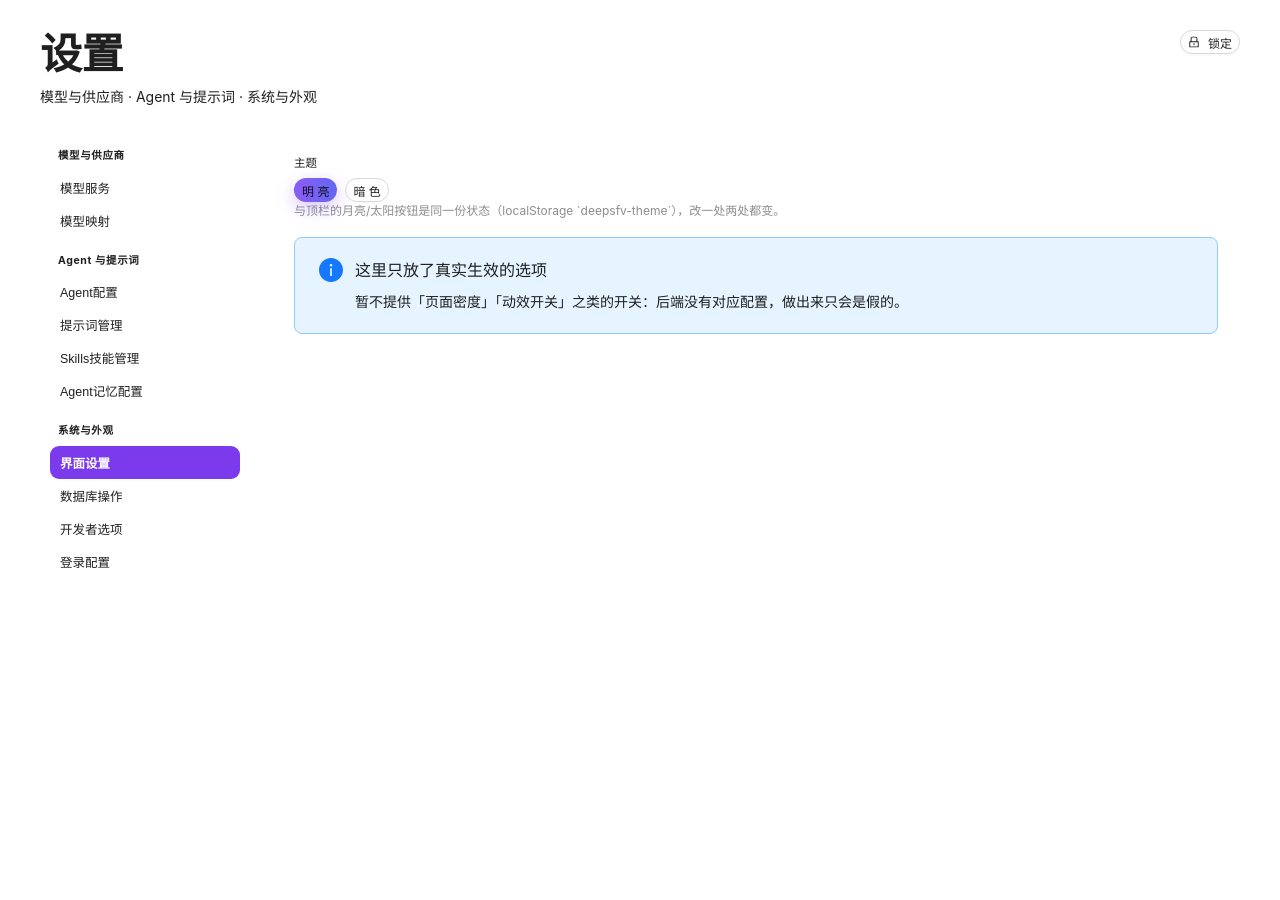
Scenario: SettingsPage（设置中心） › 登录配置能改账号名（密码留空即不改）
Expected: the text "主题" is shown, [294,156,317,170]
Click the button "登录配置": (145, 561) [50,545,240,578]
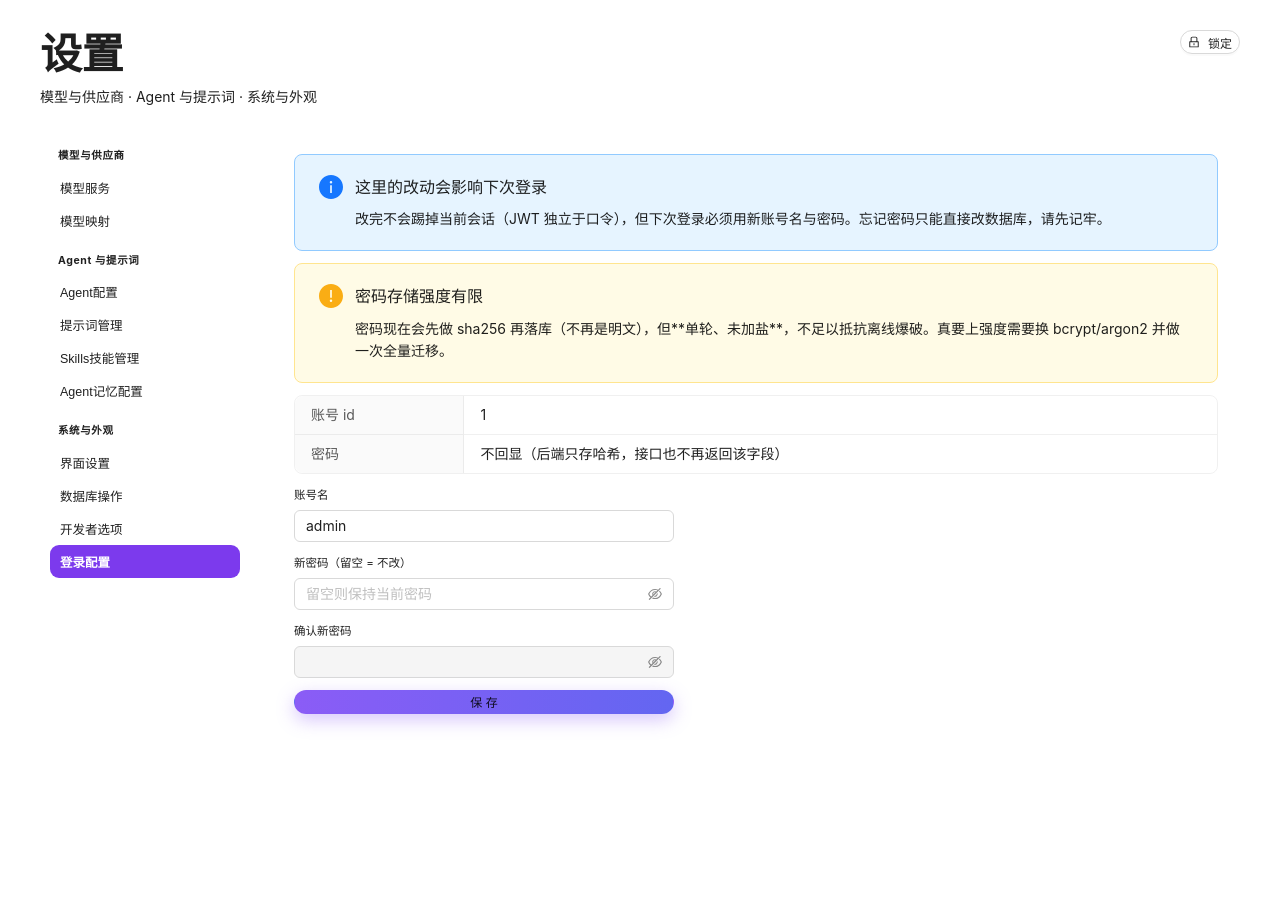
# 输入框的初始值同样是异步填进来的
Replace the text in the field showing "admin" with "operator": (484, 526) [294,510,674,542]
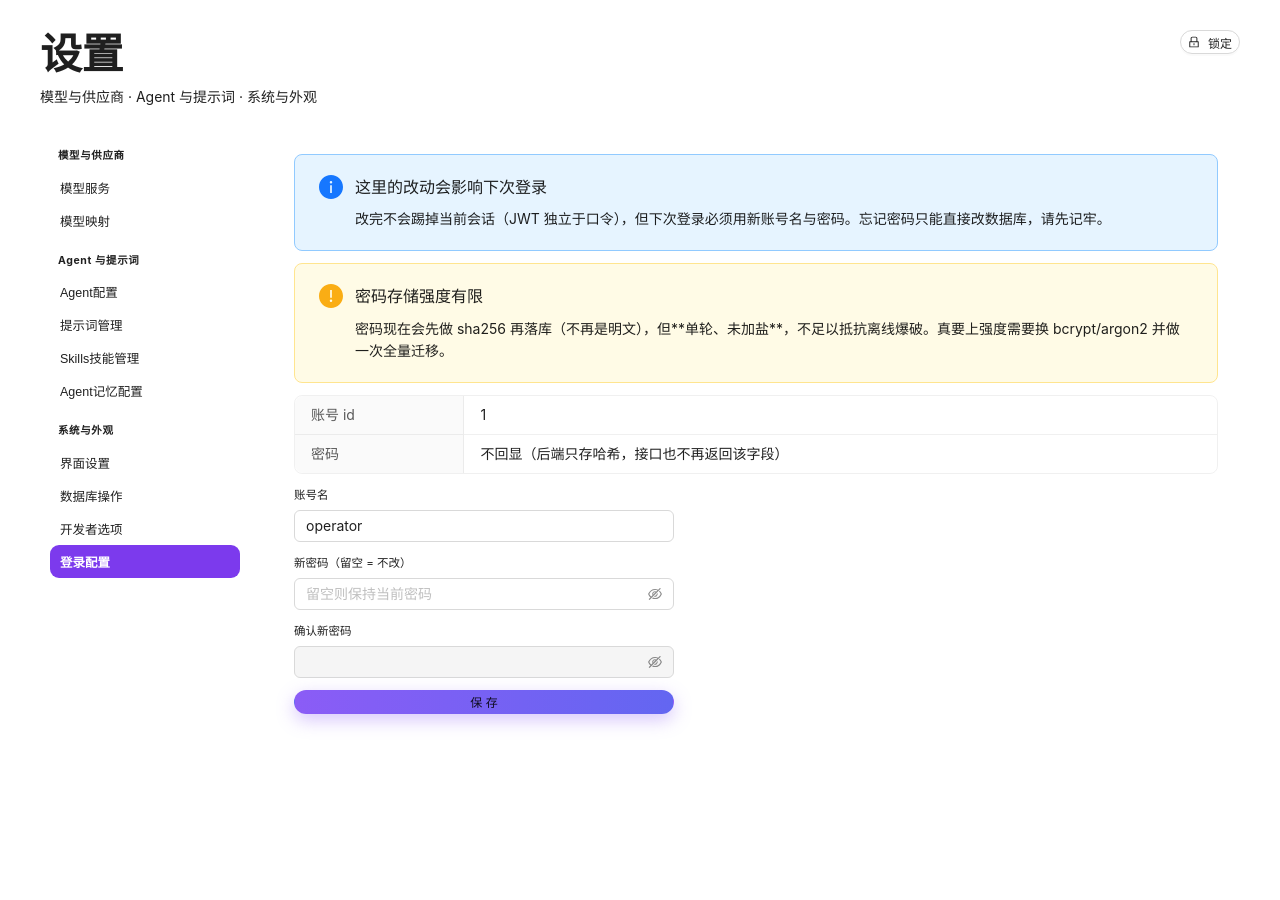
Click the button "保 存": (484, 702) [294,690,674,714]
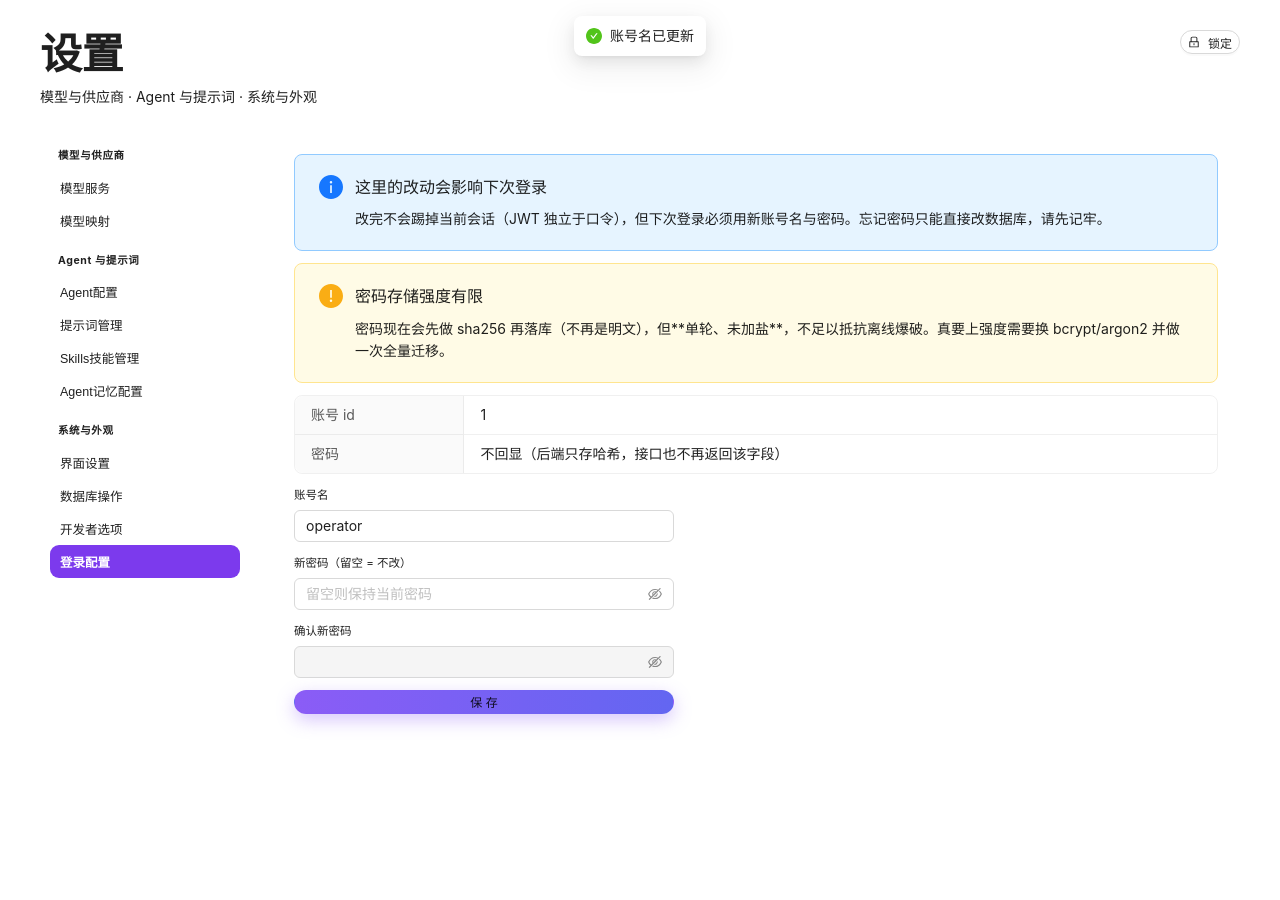
Now the text "账号名已更新" is shown, box [610,25,694,47]
